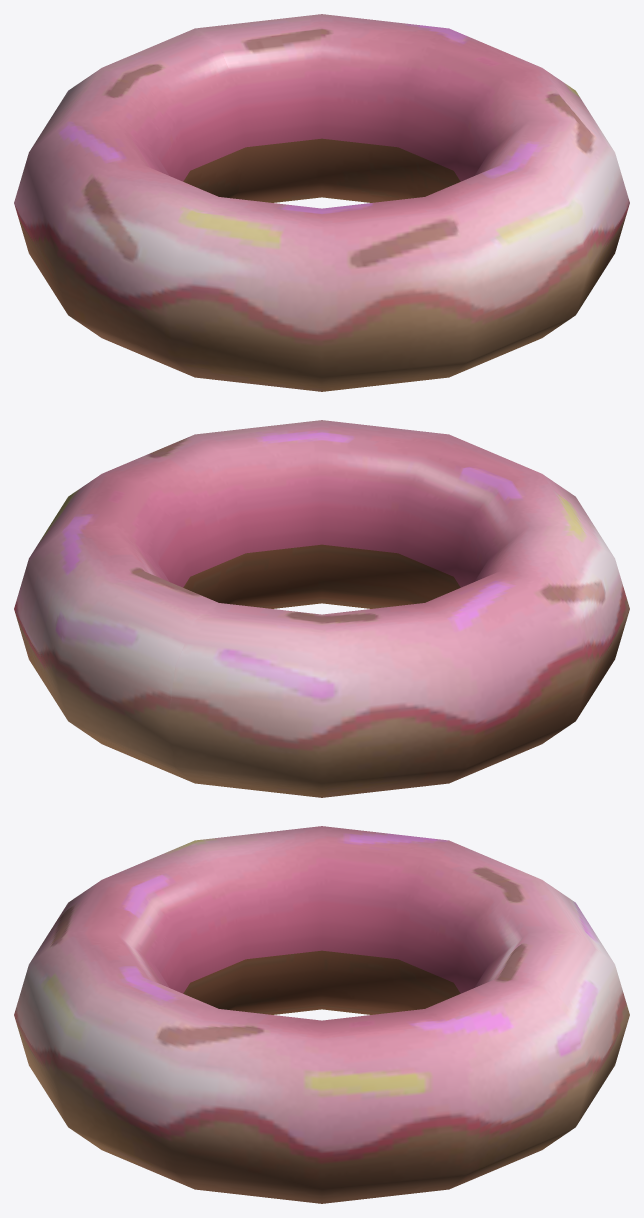
Rendered from acc_back0136.fbx.
3 renders of one model, top to bottom at view 1: azimuth 30°, elevation 25°; view 2: azimuth 150°, elevation 25°; view 3: azimuth 270°, elevation 25°, orthographic.
Parts seen in each view (by area): view 1: acc_back0136; view 2: acc_back0136; view 3: acc_back0136.
Part boxes in pixels (left/top/right/bottom): acc_back0136: left=14, top=14, right=629, bottom=391; acc_back0136: left=14, top=420, right=629, bottom=797; acc_back0136: left=14, top=826, right=629, bottom=1203.
Bounding box in the file's own units: 0.4452 × 0.13 × 0.4452.
